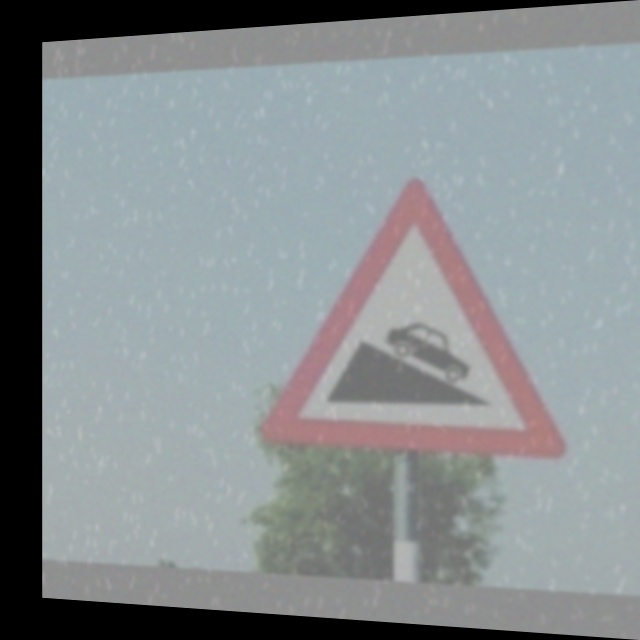Steep_Descent: (257, 170, 579, 463)
